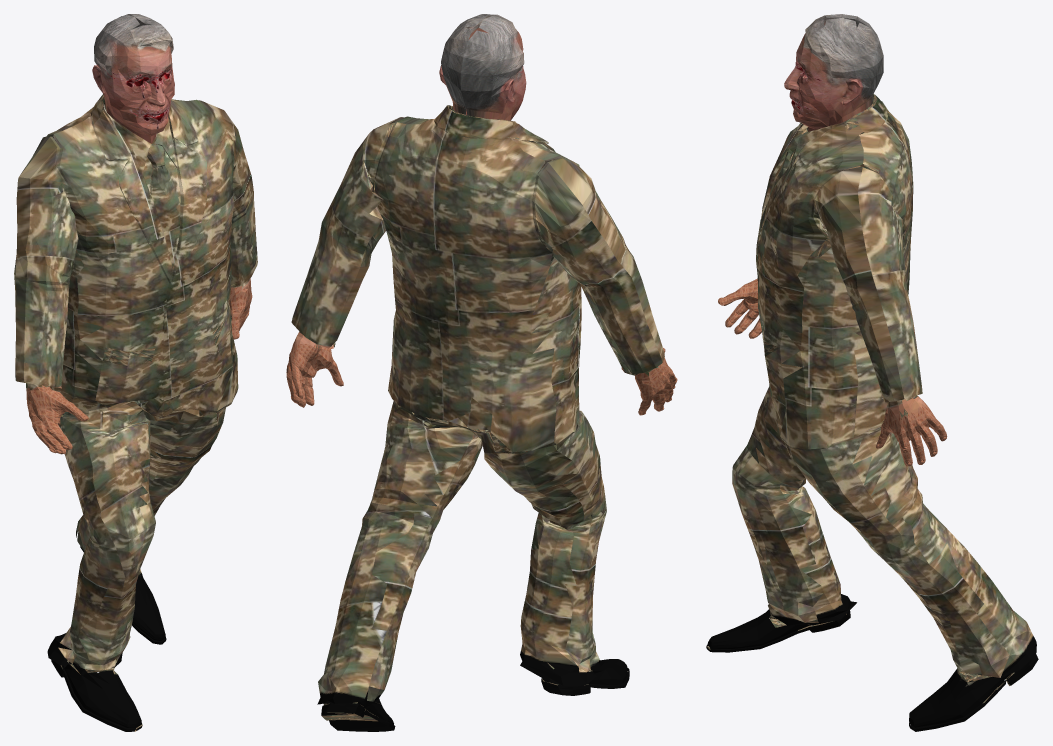
File: zombie_000021.obj
The picture shows the model from 3 angles, left to right: view 1: azimuth 30°, elevation 25°; view 2: azimuth 150°, elevation 25°; view 3: azimuth 270°, elevation 25°; orthographic projection. The views are drawn at different scales.
Visible parts, largest first — view 1: Suit_coat_orig_9___De, objGeo_Hea_orig_9___D; view 2: Suit_coat_orig_9___De, objGeo_Hea_orig_9___D; view 3: Suit_coat_orig_9___De, objGeo_Hea_orig_9___D.
Boxes of the visible parts, bbox=[...] form: Suit_coat_orig_9___De: bbox=[14, 94, 257, 731]; objGeo_Hea_orig_9___D: bbox=[92, 14, 174, 143]; Suit_coat_orig_9___De: bbox=[286, 105, 677, 731]; objGeo_Hea_orig_9___D: bbox=[439, 14, 526, 120]; Suit_coat_orig_9___De: bbox=[706, 94, 1038, 731]; objGeo_Hea_orig_9___D: bbox=[784, 14, 883, 131].
Size of the model in its own units: 0.8724 by 1.89 by 0.8339.
